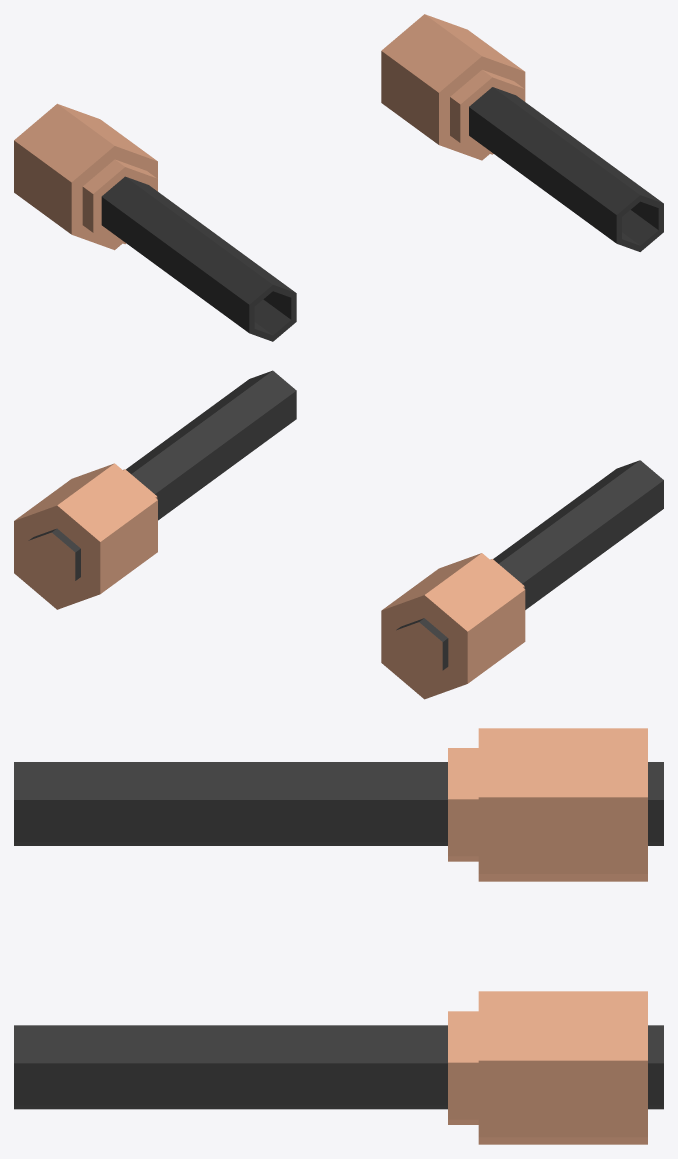
The model's file is LASER.fbx.
3 renders of one model, top to bottom at view 1: azimuth 30°, elevation 25°; view 2: azimuth 150°, elevation 25°; view 3: azimuth 270°, elevation 25°, orthographic. The views are drawn at different scales.
Visible parts, largest first — view 1: Laser; view 2: Laser; view 3: Laser.
Part boxes in pixels (bbox=[...]): Laser: bbox=[14, 14, 663, 341]; Laser: bbox=[14, 370, 663, 699]; Laser: bbox=[14, 728, 663, 1144].
Bounding box in the file's own units: 400 × 87.99 × 338.
